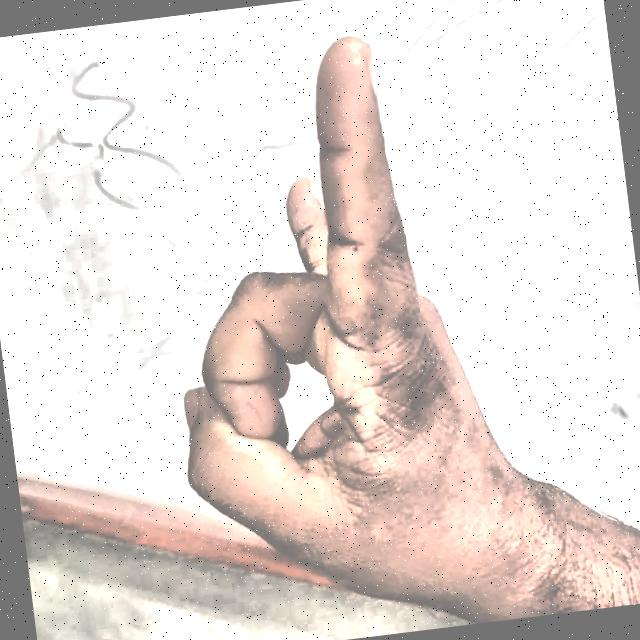Cha: (102, 1, 595, 640)
